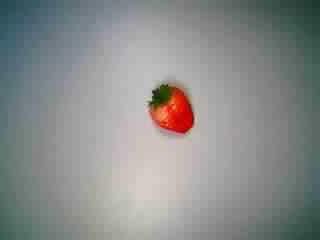strawberry: (139, 74, 207, 138)
